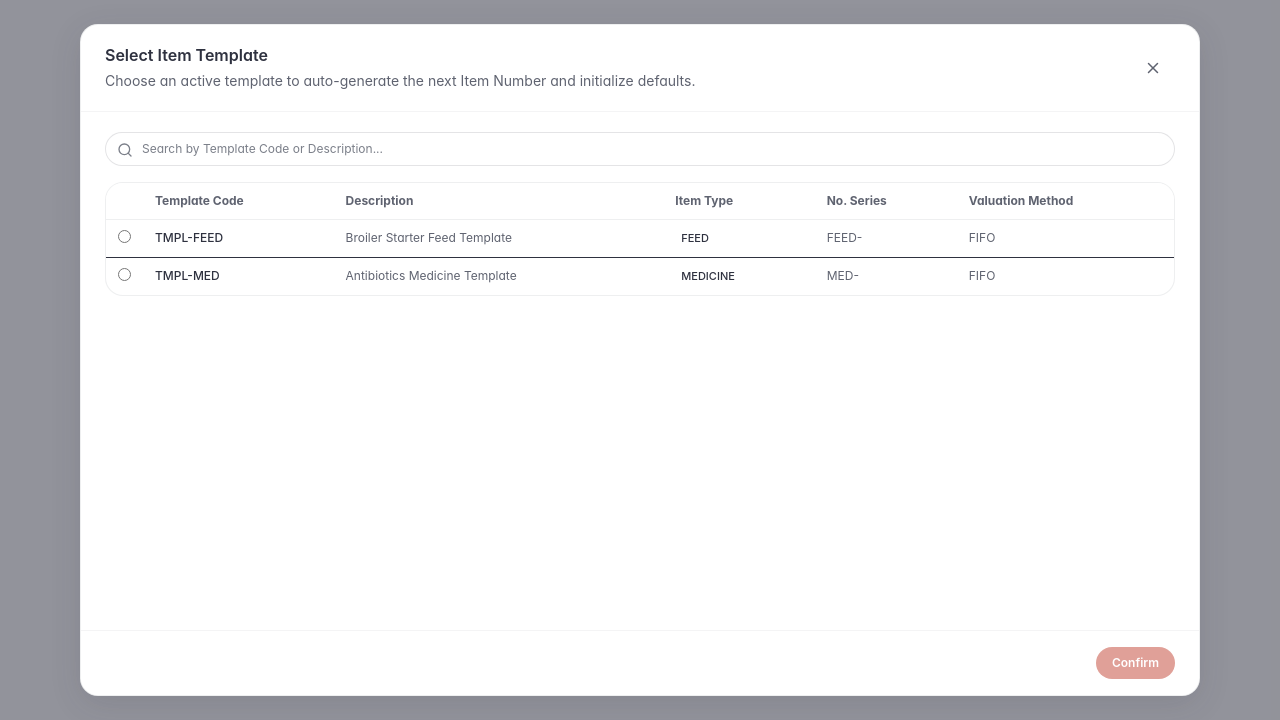
Test: ItemTemplateSelectModal › filters templates dynamically by search term
Expected: the text "TMPL-FEED" is shown, [155,230,223,245]
Type "Antibiotics" into the field with placeholder "Search by Template Code or Description..." at (640, 149), box [105,132,1175,166]
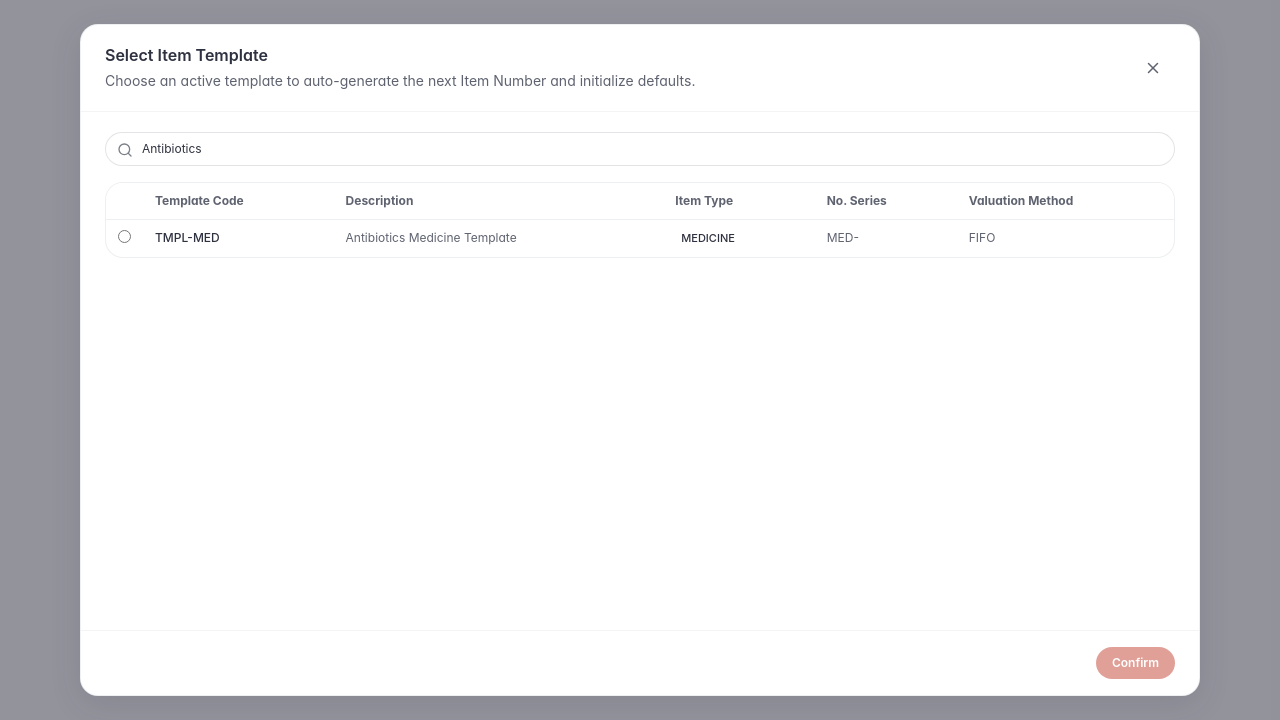
Expected: the text "TMPL-MED" is shown, [155,230,220,245]
Expected: the text "TMPL-FEED" is gone
